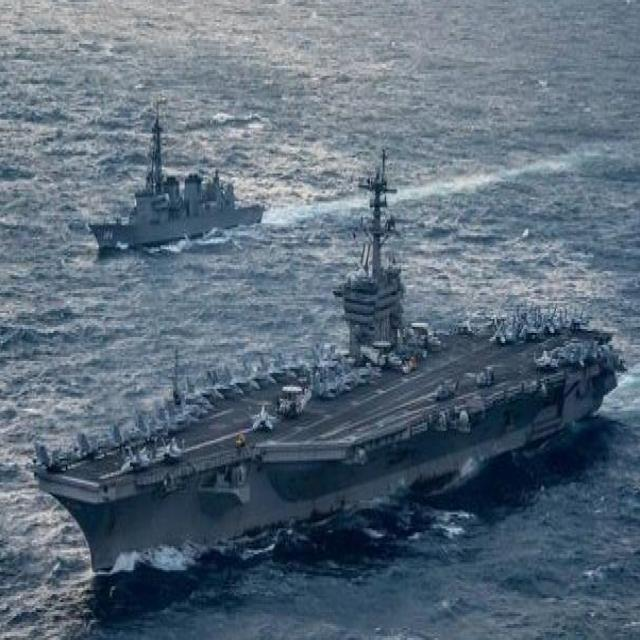navalvessels: (32, 158, 626, 588), (90, 111, 273, 257)
